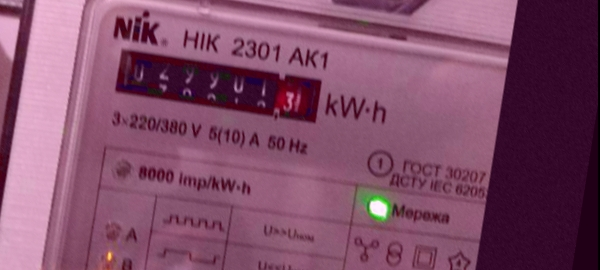0: (228, 68, 247, 95), (128, 58, 146, 82)
1: (255, 72, 270, 98)
2: (154, 57, 172, 81)
3: (278, 88, 296, 113)
9: (204, 66, 220, 91), (180, 61, 195, 84)
screen: (103, 38, 331, 133)
